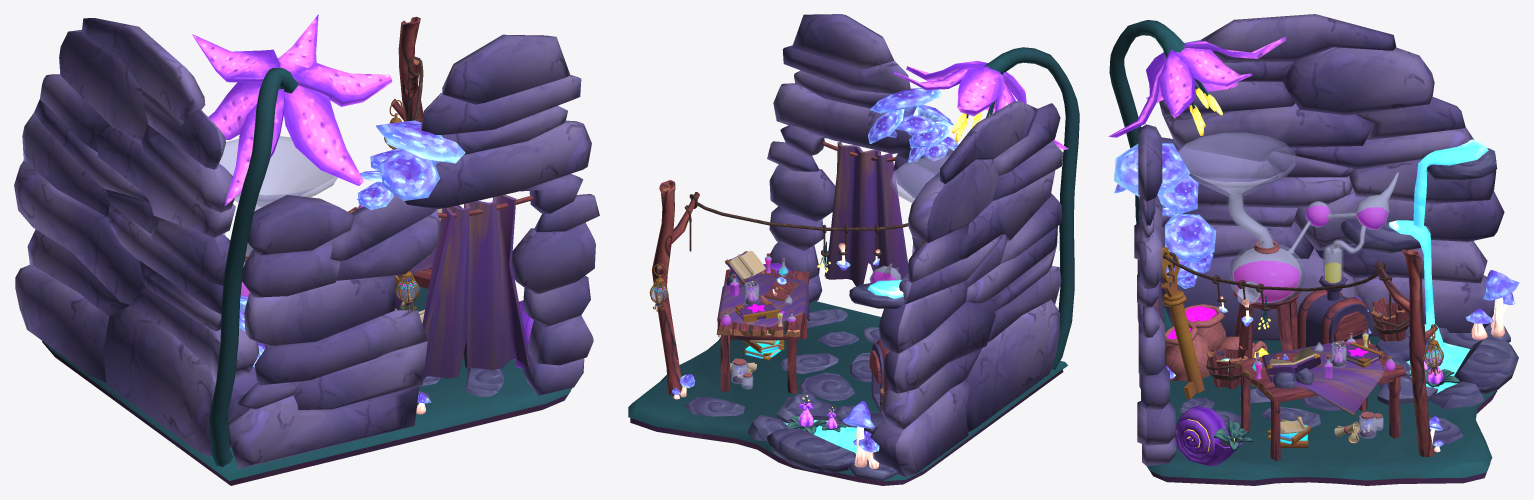
File: dae_crib_-_fairys_magic_brew_boutique.glb
3 renders of one model, left to right at view 1: azimuth 30°, elevation 25°; view 2: azimuth 150°, elevation 25°; view 3: azimuth 270°, elevation 25°, orthographic. The views are drawn at different scales.
Visible parts, largest first — view 1: Environment_Walls, Environment_Flower, Environment_Curtain, Environment_Ground, Prop_Stonemushroom.001, Prop_PotionFurnance, Prop_DryingRack, Environment_Waterfall, Prop_Desk, Prop_Lamp_1; view 2: Environment_Walls, Environment_Ground, Environment_Waterfall, Environment_Flower, Environment_Curtain, Prop_Desk, Prop_DryingRack, Prop_Stonemushroom.001, Prop_PotionFurnance, Prop_Mushrooms_1, Prop_Plants, Prop_SpellBook (+2 smaller); view 3: Environment_Walls, Environment_Ground, Prop_PotionFurnance, Environment_Waterfall, Environment_Flower, Prop_Desk, Prop_DryingRack, Prop_Stonemushroom.001, Prop_Sacks, Prop_Stonemushroom.002, Prop_Snail, Prop_Key (+9 smaller).
Boxes of the visible parts, x1,y1,x2,y2 form: Environment_Walls: (14, 18, 599, 469); Environment_Flower: (192, 14, 392, 466); Environment_Curtain: (422, 194, 533, 379); Environment_Ground: (42, 284, 572, 485); Prop_Stonemushroom.001: (357, 120, 465, 209); Prop_PotionFurnance: (219, 136, 337, 347); Prop_DryingRack: (391, 16, 423, 122); Environment_Waterfall: (264, 345, 504, 402); Prop_Desk: (348, 207, 435, 310); Prop_Lamp_1: (395, 271, 419, 313); Environment_Walls: (767, 14, 1063, 477); Environment_Ground: (628, 301, 1067, 485); Environment_Waterfall: (685, 280, 904, 480); Environment_Flower: (892, 47, 1079, 369); Environment_Curtain: (822, 141, 908, 286); Prop_Desk: (716, 269, 809, 393); Prop_DryingRack: (652, 180, 908, 395); Prop_Stonemushroom.001: (868, 87, 958, 162); Prop_PotionFurnance: (869, 155, 949, 412); Prop_Mushrooms_1: (842, 401, 879, 468); Prop_Plants: (786, 241, 845, 434); Prop_SpellBook: (724, 251, 765, 284); Environment_Walls: (1134, 14, 1504, 466); Environment_Ground: (1147, 326, 1497, 485); Prop_PotionFurnance: (1178, 132, 1399, 359); Environment_Waterfall: (1179, 139, 1518, 443); Environment_Flower: (1108, 20, 1286, 327); Prop_Desk: (1235, 338, 1406, 460); Prop_DryingRack: (1163, 249, 1437, 456); Prop_Stonemushroom.001: (1114, 143, 1198, 217); Prop_Sacks: (1165, 304, 1268, 380); Prop_Stonemushroom.002: (1165, 213, 1216, 288); Prop_Snail: (1175, 406, 1242, 466); Prop_Key: (1161, 247, 1204, 399).
Bounding box in the file's own units: 0.5855 × 0.5736 × 0.6386.
Materials: 1 (1 with a texture image).
